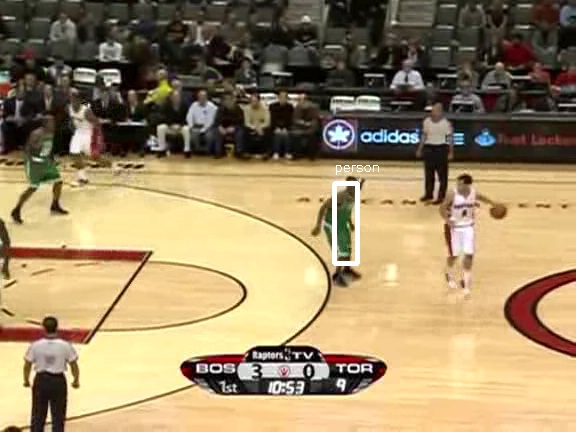person: (325, 187, 359, 268), (324, 187, 358, 268), (326, 187, 360, 268), (325, 186, 359, 267), (325, 188, 359, 269)
target_negative: (131, 150, 515, 298), (257, 350, 576, 378), (471, 282, 531, 322), (216, 382, 410, 389), (221, 391, 563, 392), (559, 272, 560, 352)
